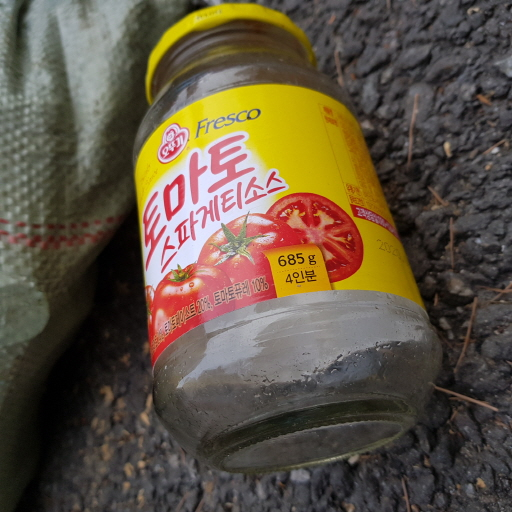Glass_5: (131, 7, 440, 467)
